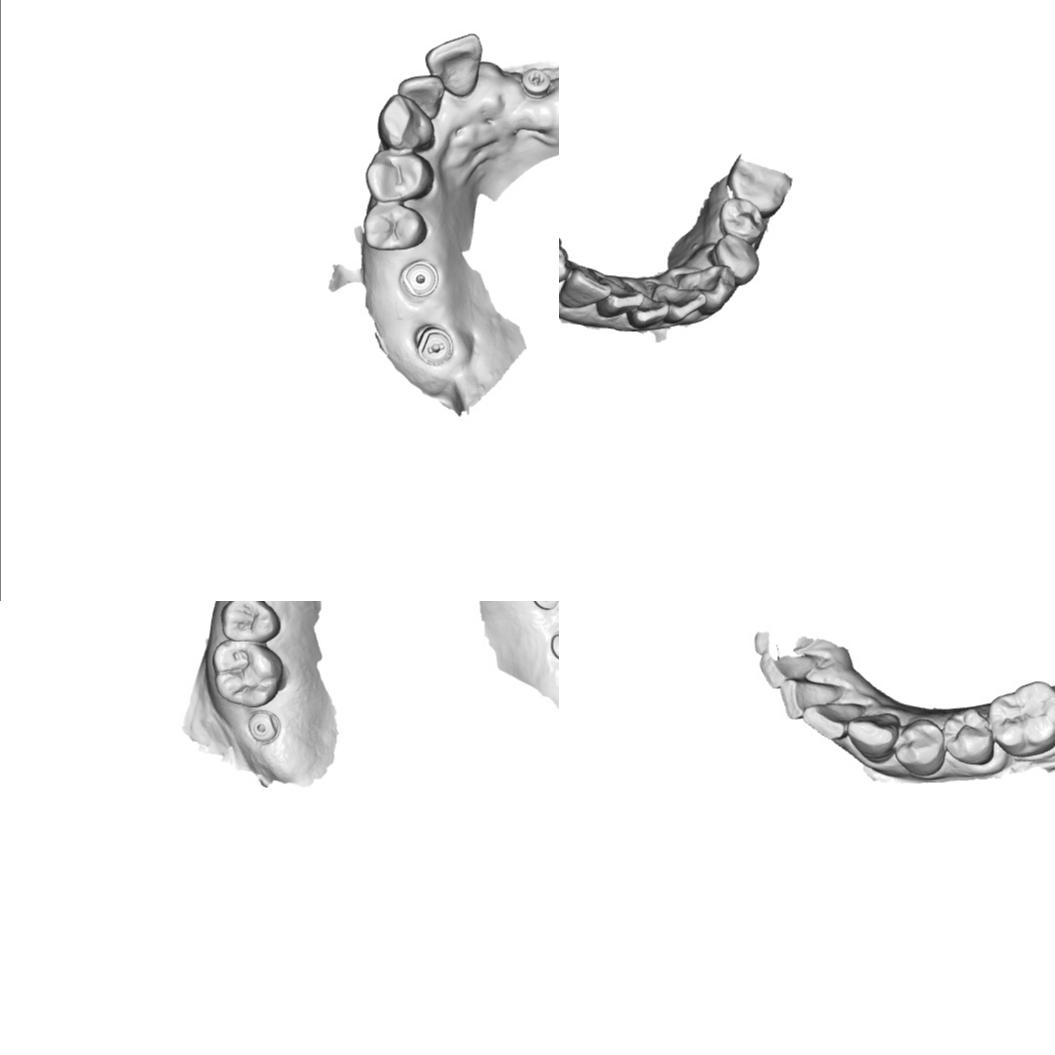canine: (376, 94, 437, 152), (671, 263, 738, 312), (848, 711, 897, 763), (559, 235, 572, 295)
implant: (398, 257, 440, 299), (246, 708, 282, 745)
implant_minus: (411, 323, 456, 366), (549, 628, 559, 662), (528, 601, 559, 611)
implant_plus: (519, 66, 552, 98)
incisor: (424, 32, 484, 99), (777, 675, 848, 720), (756, 646, 821, 693), (798, 701, 871, 742), (559, 261, 610, 312), (651, 281, 708, 324), (596, 268, 644, 319), (396, 75, 445, 120), (623, 290, 672, 331)
molar: (986, 677, 1055, 758), (211, 637, 284, 708), (722, 158, 792, 218)
premolar: (362, 148, 433, 205), (941, 704, 998, 767), (892, 716, 948, 777), (362, 202, 428, 250), (706, 233, 761, 287), (219, 601, 281, 643), (717, 194, 768, 244)
